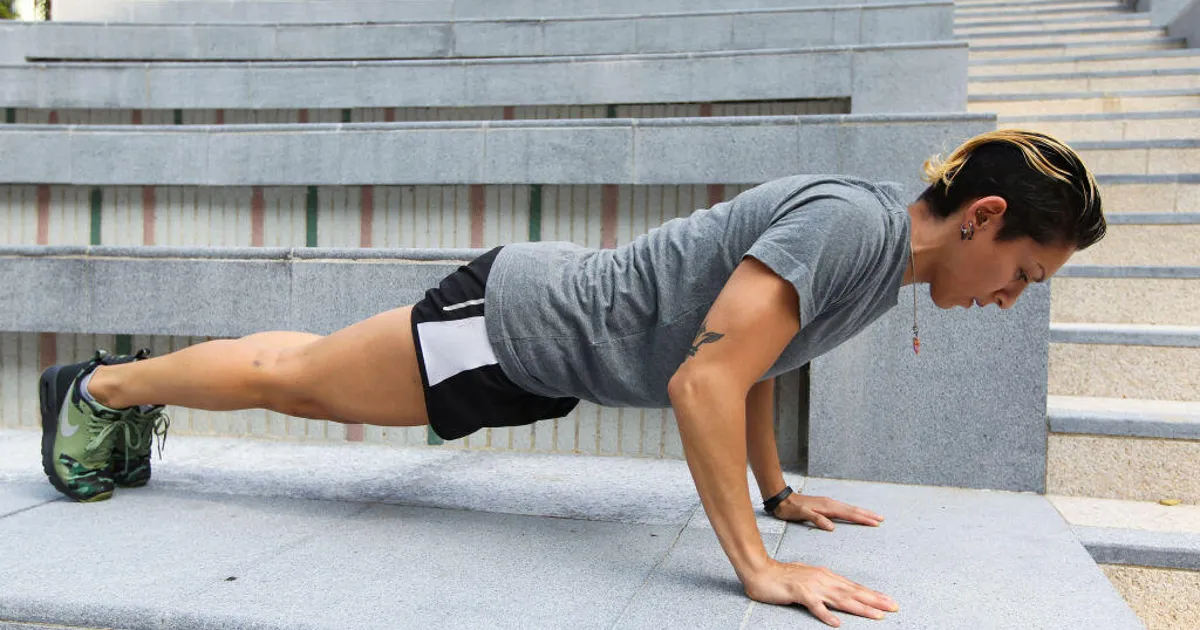up: (38, 128, 1107, 627)
